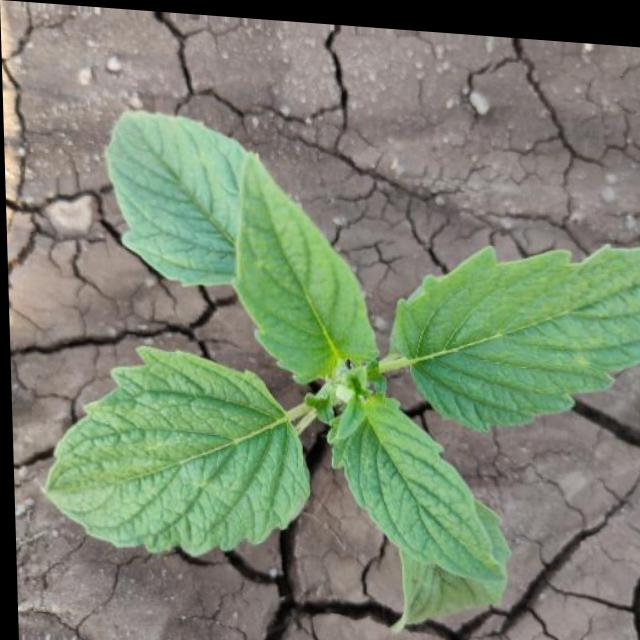crop: (27, 111, 640, 640)
